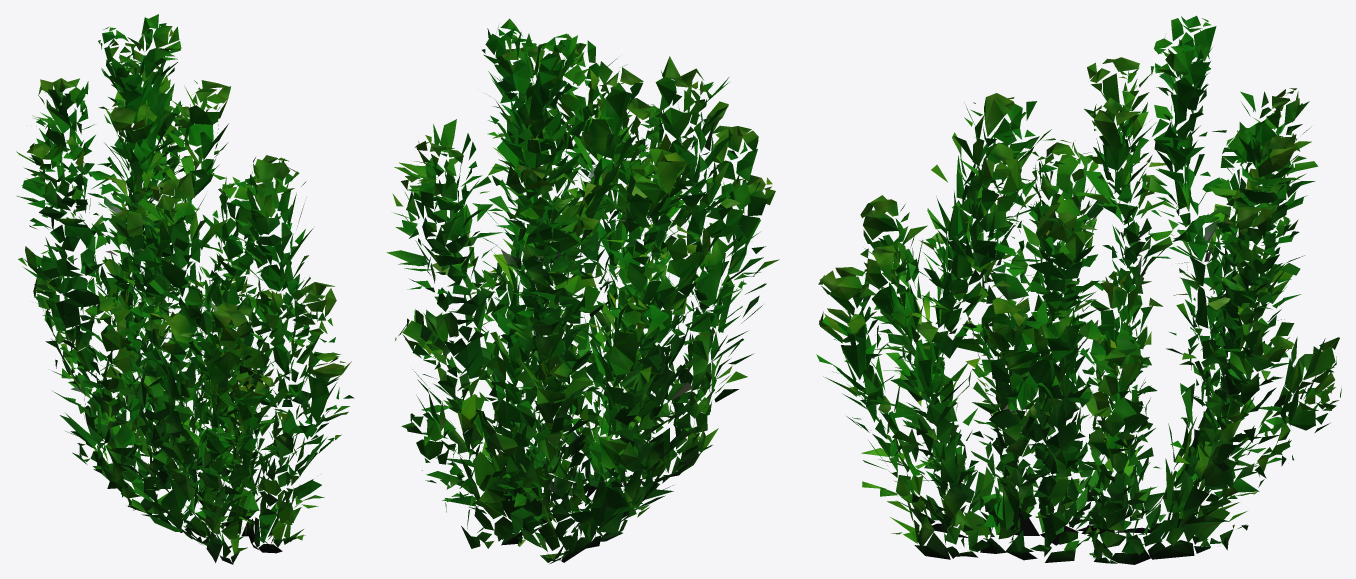
Rendered from egeria.glb.
3 renders of one model, left to right at view 1: azimuth 30°, elevation 25°; view 2: azimuth 150°, elevation 25°; view 3: azimuth 270°, elevation 25°, orthographic. The views are drawn at different scales.
Parts seen in each view (by area): view 1: tripo_node_3d131f8c-fbfb-488a-9ede-d75bbebd4b25; view 2: tripo_node_3d131f8c-fbfb-488a-9ede-d75bbebd4b25; view 3: tripo_node_3d131f8c-fbfb-488a-9ede-d75bbebd4b25.
Boxes of the visible parts, x1,y1,x2,y2 form: tripo_node_3d131f8c-fbfb-488a-9ede-d75bbebd4b25: [16, 14, 354, 564]; tripo_node_3d131f8c-fbfb-488a-9ede-d75bbebd4b25: [386, 18, 779, 563]; tripo_node_3d131f8c-fbfb-488a-9ede-d75bbebd4b25: [816, 15, 1341, 564].
Size of the model in its own units: 0.3937 by 1 by 0.9116.
Materials: 1 (1 with a texture image).
